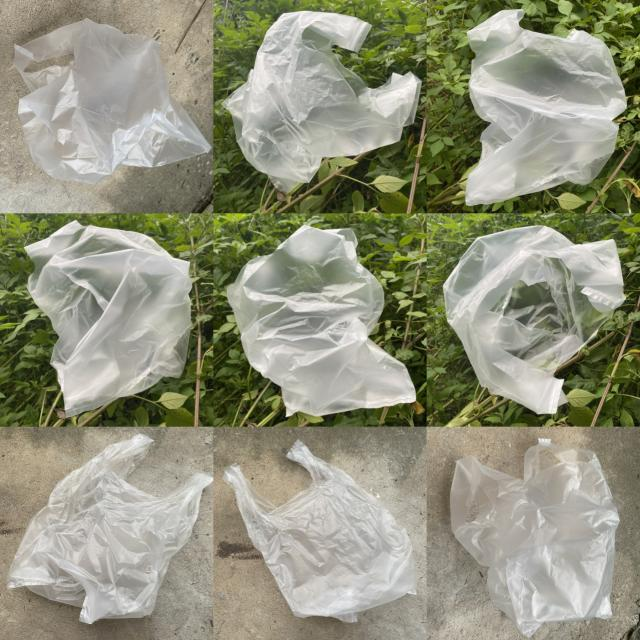Single-layer Plastic: (8, 434, 212, 624), (228, 225, 416, 416), (224, 11, 421, 192), (224, 440, 416, 622), (444, 226, 625, 414), (450, 439, 619, 636), (14, 19, 211, 184), (25, 221, 191, 416), (465, 9, 626, 204)
